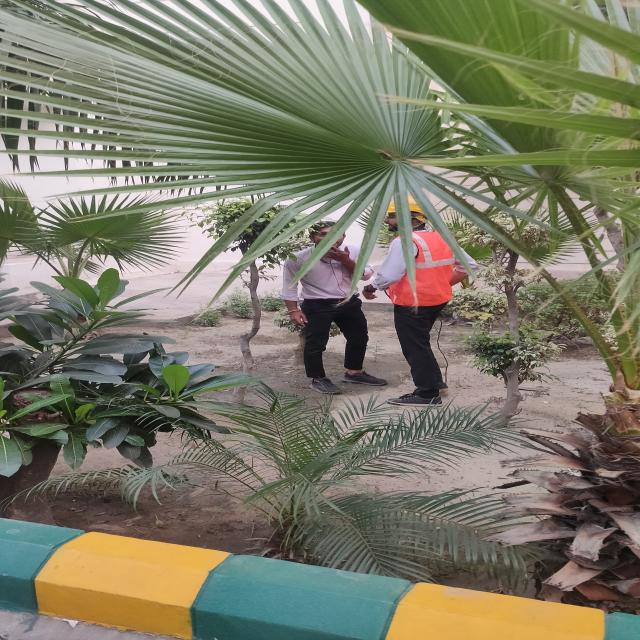safe: (363, 198, 480, 413)
unsafe: (286, 216, 384, 395)
